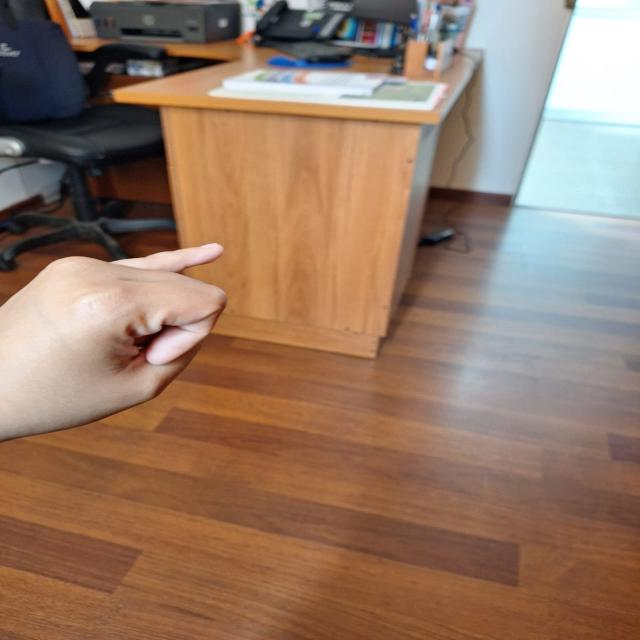Z: (0, 235, 235, 443)
